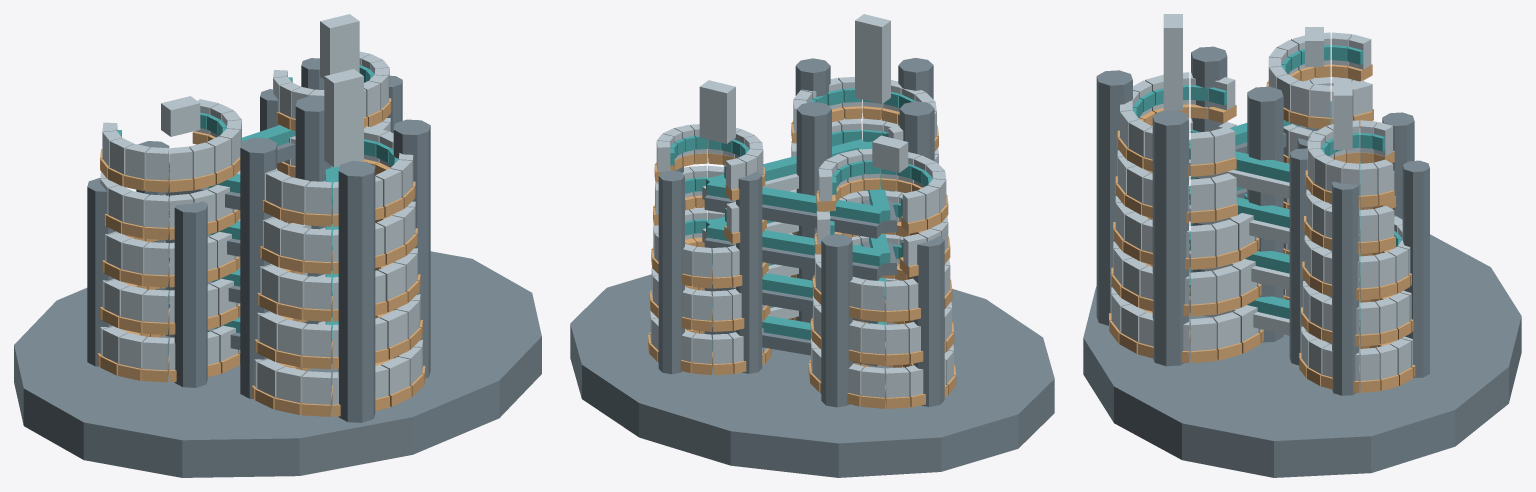
File: a19_c_porous_agora.obj
3 renders of one model, left to right at view 1: azimuth 30°, elevation 25°; view 2: azimuth 150°, elevation 25°; view 3: azimuth 270°, elevation 25°, orthographic. The views are drawn at different scales.
Size of the model in its own units: 226 by 158 by 183.
